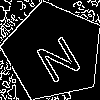N: (28, 27, 84, 85)
